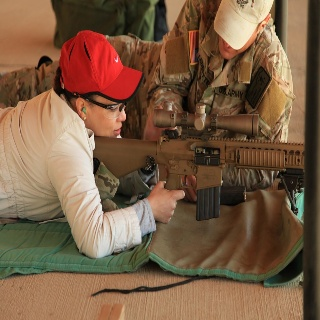rifle: (92, 103, 310, 221)
